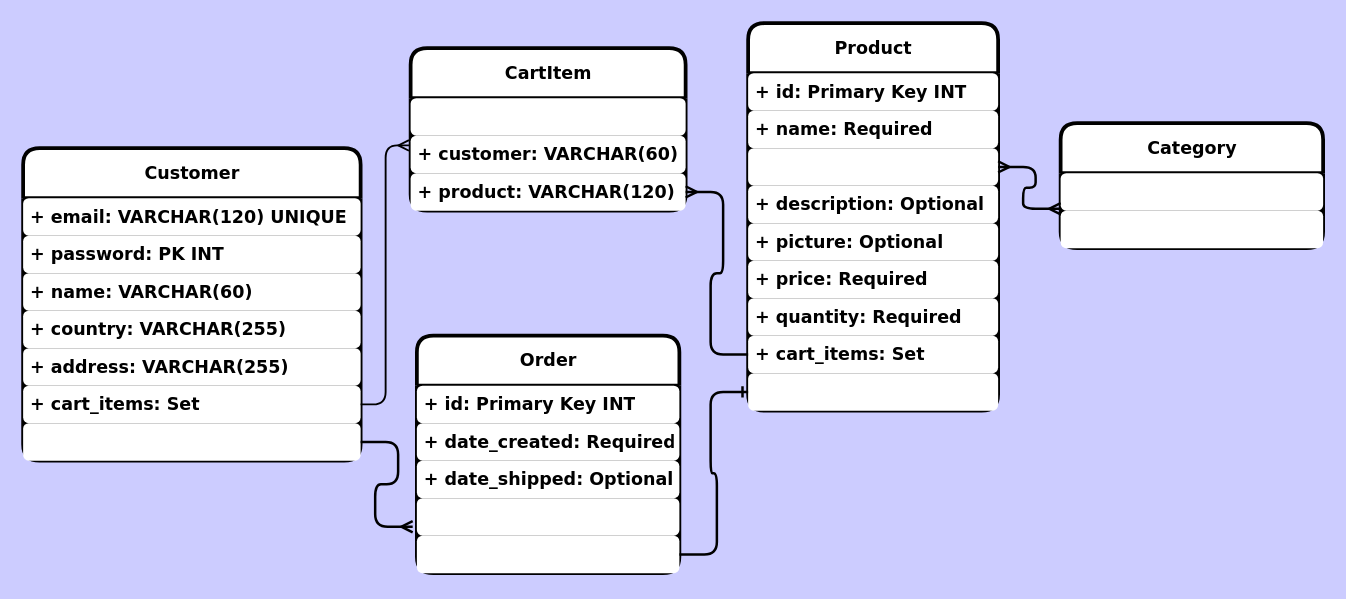
This 1346x599 diagram has some shape labels left out. Each missing label, with the centre of its shape:
+ categories: Set: (873,166)
+ name: VARCHAR(120): (1191,191)
+ order: Set: (873,391)
+ orders: Set: (191,441)
+ product: Primary Key: (547,553)
+ product: Set: (1191,229)
+ quantity: INT: (547,116)
+ total_price: Optional: (547,516)
